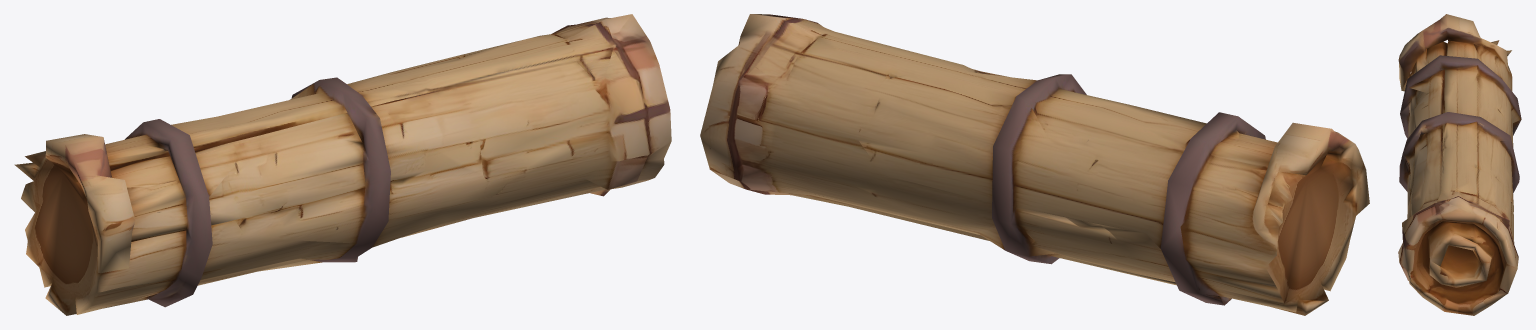
Rendered from bamboo_slips.glb.
The picture shows the model from 3 angles, left to right: view 1: azimuth 30°, elevation 25°; view 2: azimuth 150°, elevation 25°; view 3: azimuth 270°, elevation 25°; orthographic projection. The views are drawn at different scales.
Visible parts, largest first — view 1: tripo_node_157a3b07-6ec3-42a8-a2f0-01b52c857939; view 2: tripo_node_157a3b07-6ec3-42a8-a2f0-01b52c857939; view 3: tripo_node_157a3b07-6ec3-42a8-a2f0-01b52c857939.
Part boxes in pixels (box(x1,y1,x2,y2)): tripo_node_157a3b07-6ec3-42a8-a2f0-01b52c857939: box(14, 14, 671, 315); tripo_node_157a3b07-6ec3-42a8-a2f0-01b52c857939: box(700, 14, 1369, 315); tripo_node_157a3b07-6ec3-42a8-a2f0-01b52c857939: box(1398, 14, 1521, 315).
Bounding box in the file's own units: 0.6 × 0.1825 × 0.1672.
Materials: 1 (1 with a texture image).
